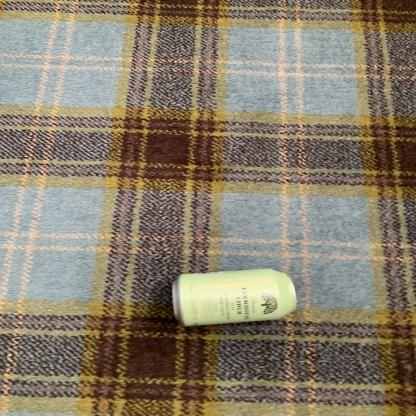trash: (169, 267, 301, 329)
